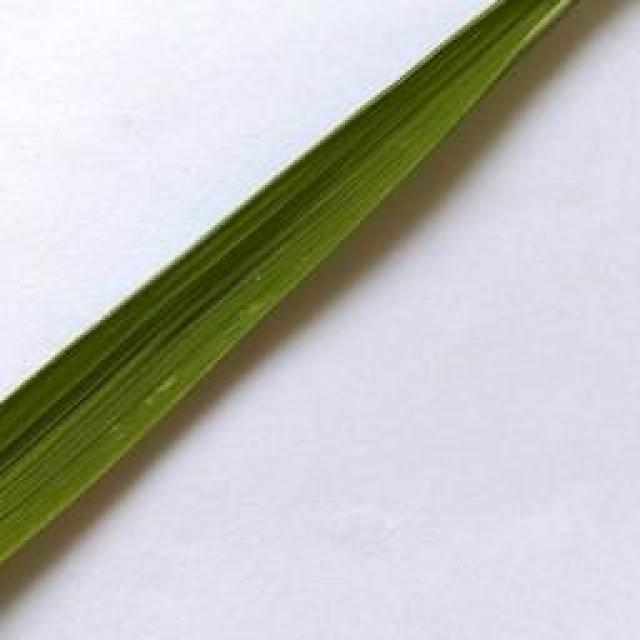Healthy-Plant: (0, 0, 581, 566)
